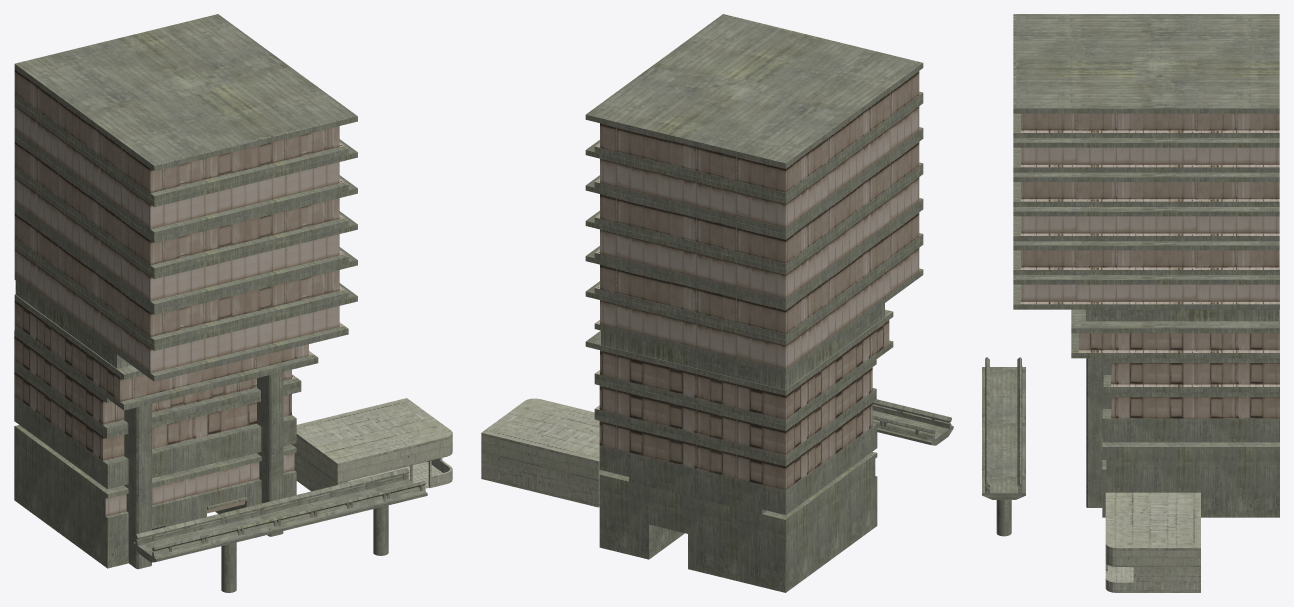
The picture shows the model from 3 angles, left to right: view 1: azimuth 30°, elevation 25°; view 2: azimuth 150°, elevation 25°; view 3: azimuth 270°, elevation 25°; orthographic projection. The views are drawn at different scales.
Parts seen in each view (by area): view 1: SM_HK_01_06; view 2: SM_HK_01_06; view 3: SM_HK_01_06.
Part boxes in pixels (x1,y1,x2,y2): SM_HK_01_06: (14,14,452,592); SM_HK_01_06: (481,14,953,592); SM_HK_01_06: (982,14,1279,592).
Bounding box in the file's own units: 3663 × 4186 × 2714.
